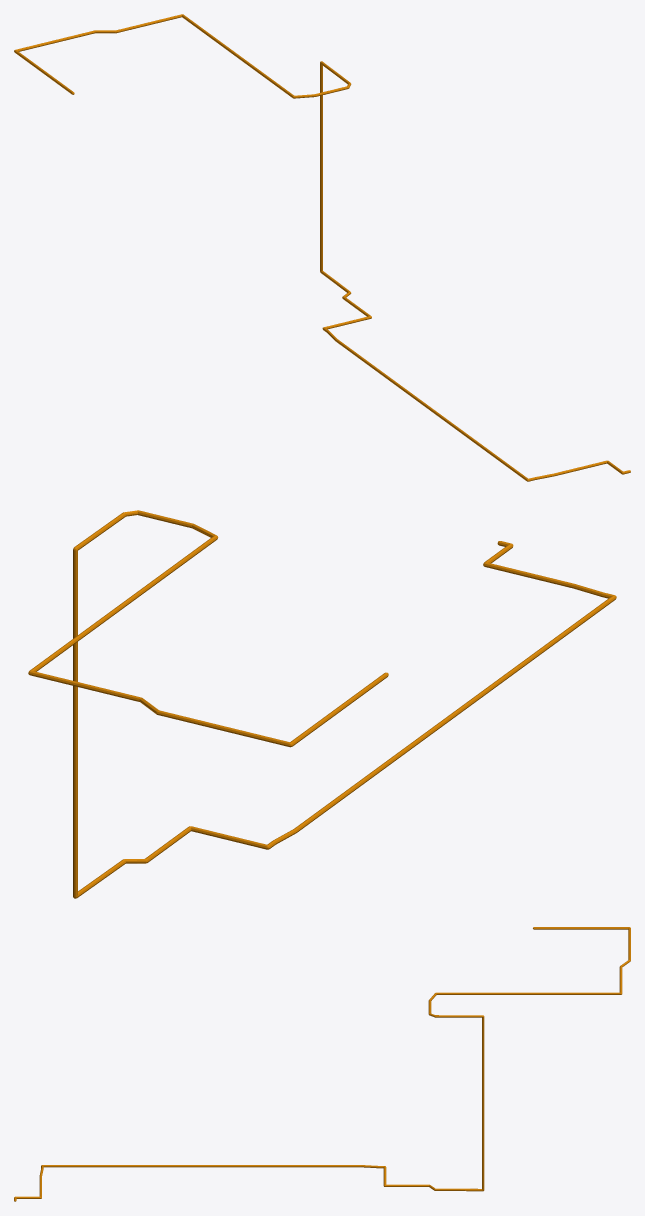
The picture shows the model from 3 angles, top to bottom: view 1: azimuth 30°, elevation 25°; view 2: azimuth 150°, elevation 25°; view 3: azimuth 270°, elevation 25°; orthographic projection. The views are drawn at different scales.
Size of the model in its own units: 1853 by 1520 by 4836.
